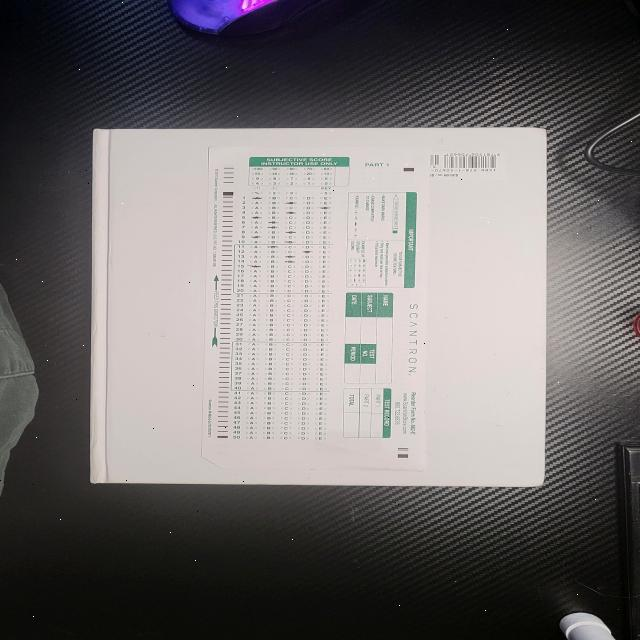scantron: (201, 147, 432, 471)
